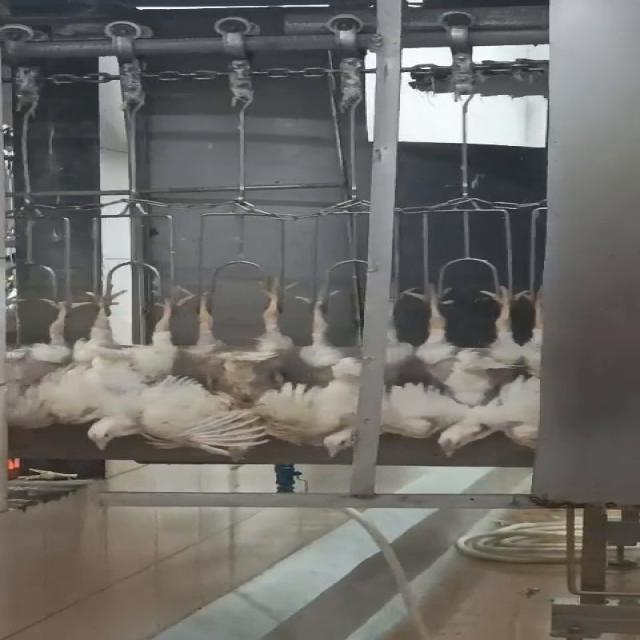chicken: (64, 273, 280, 459), (171, 272, 293, 418), (0, 286, 88, 439), (418, 286, 530, 402), (293, 288, 363, 461), (434, 376, 557, 456)
